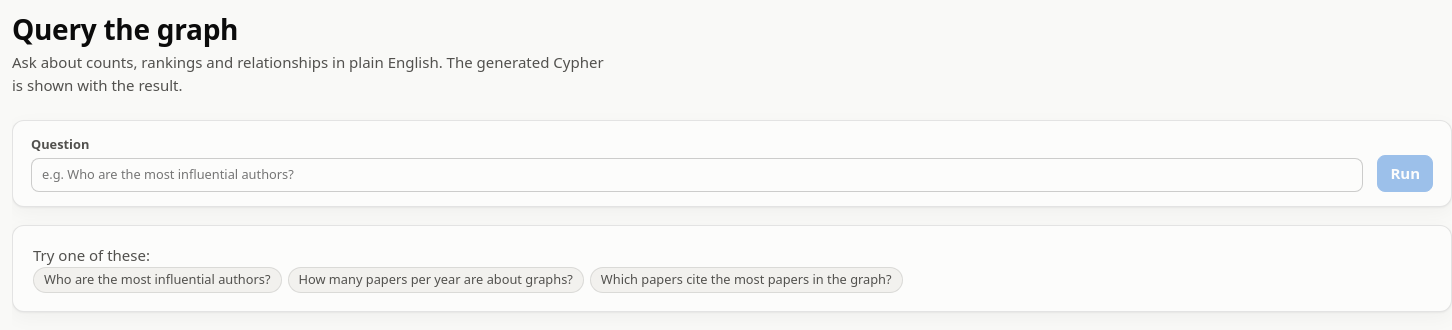
QueryPage › explains questions the schema cannot answer
The width and height of the screenshot is (1452, 330).
Type "top authors" into the field labelled "Question" at (697, 175), box 31,158 -> 1363,192
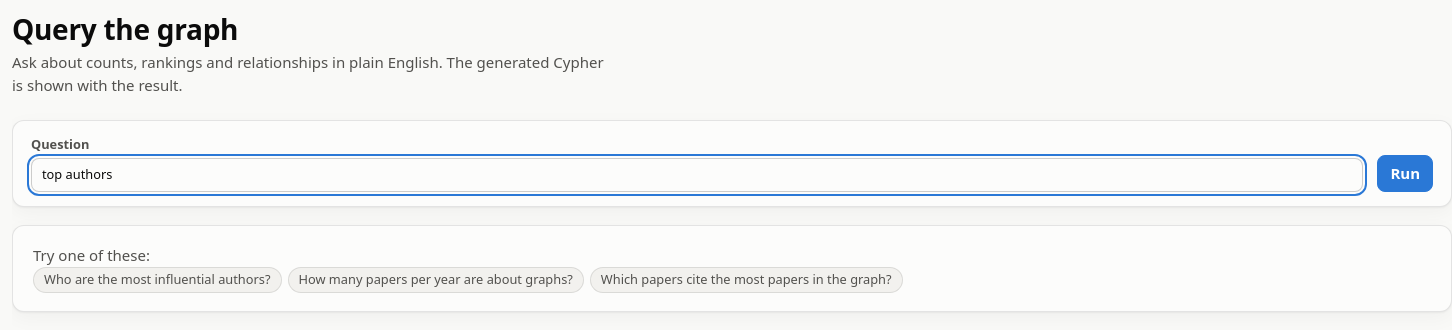
Click the button "Run" at (1405, 174), box 1377,155 -> 1433,192
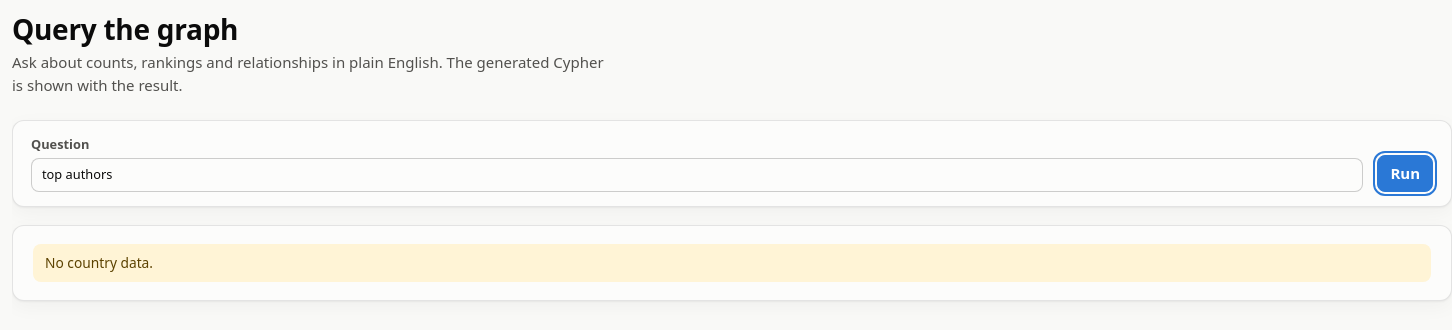
Expected: the text "No country data." is shown, 45,253 -> 153,272
